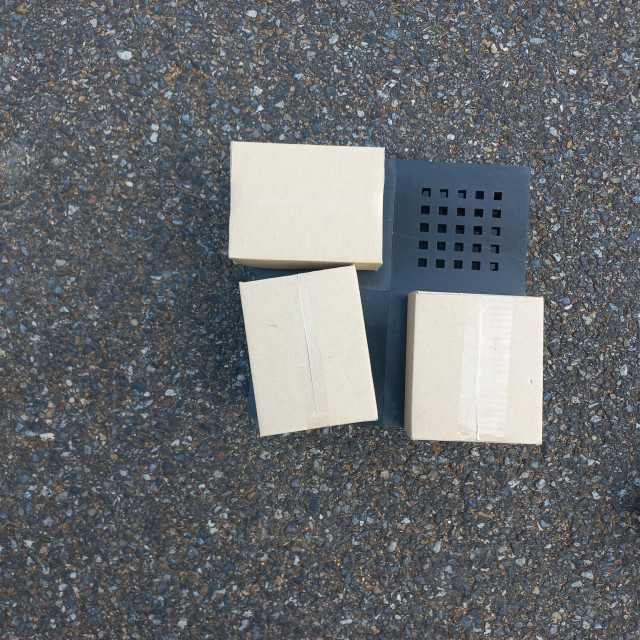box: (259, 199, 403, 378), (254, 366, 413, 503), (96, 193, 233, 350)
